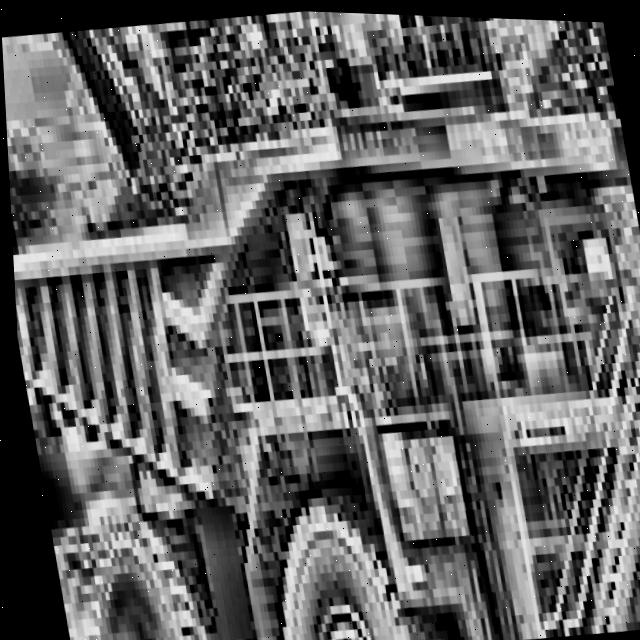dump_truck: (2, 54, 640, 640)
